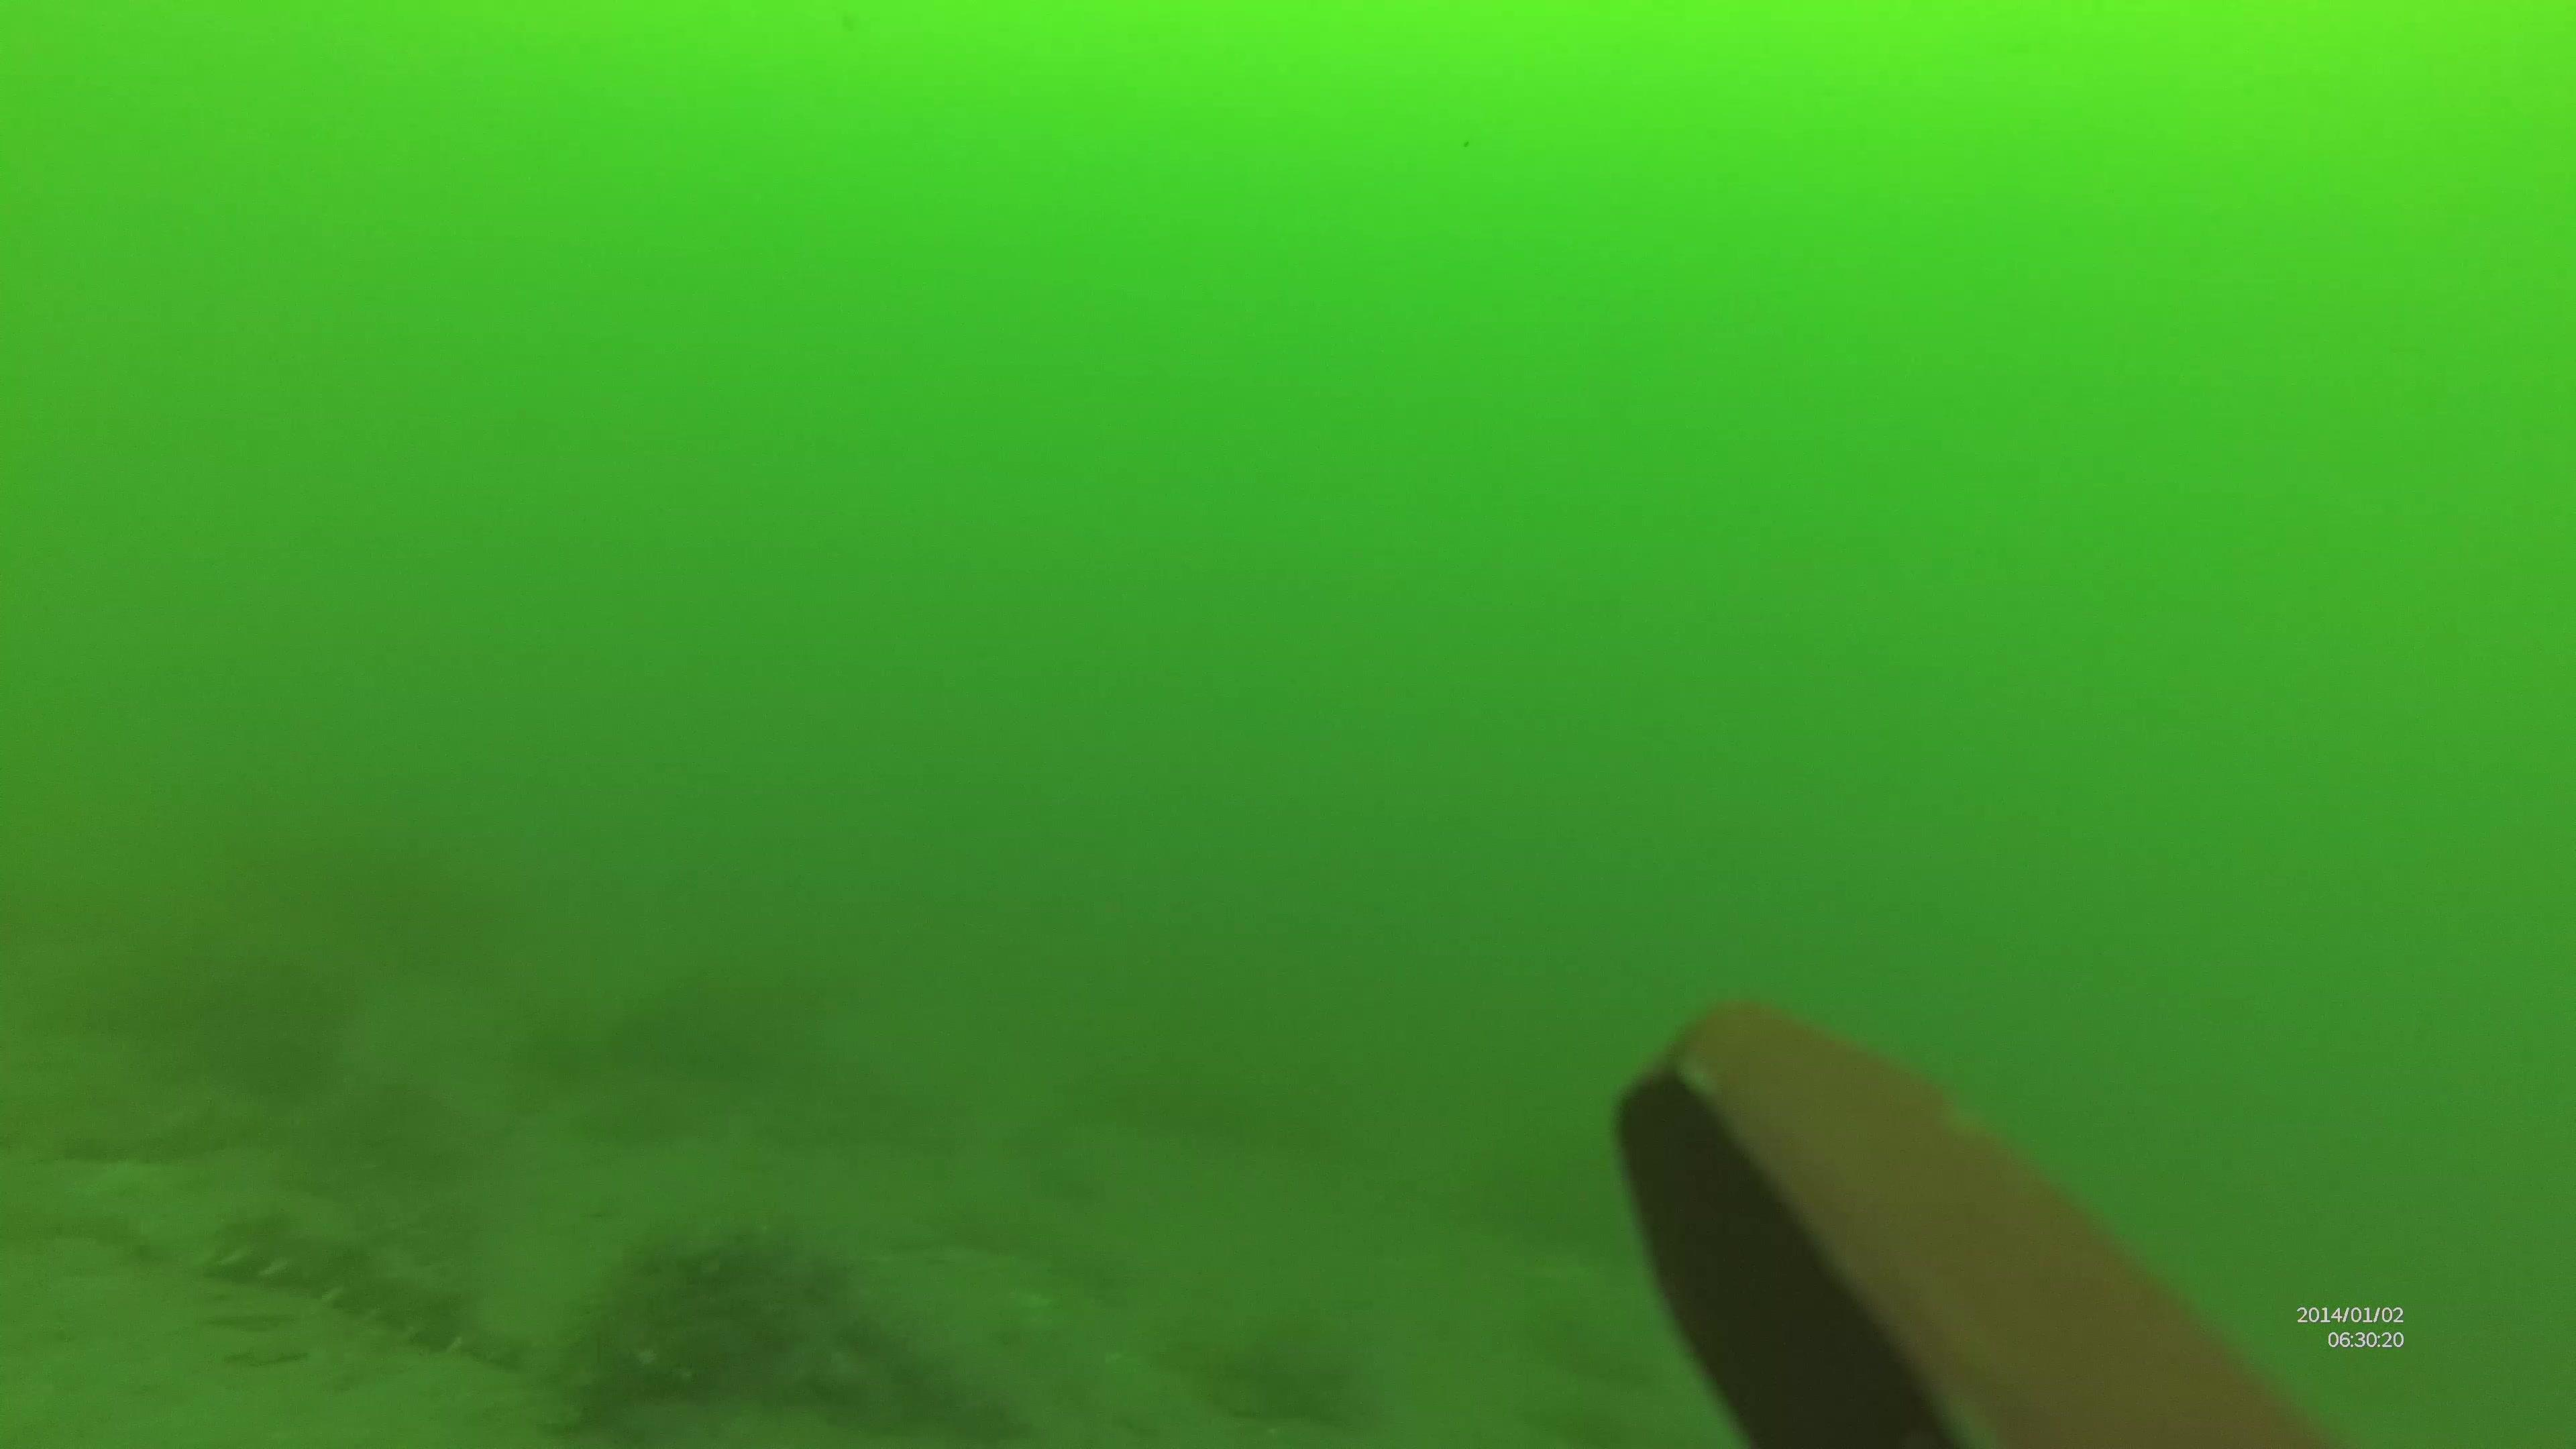holothurian: (209, 1207, 541, 1368)
